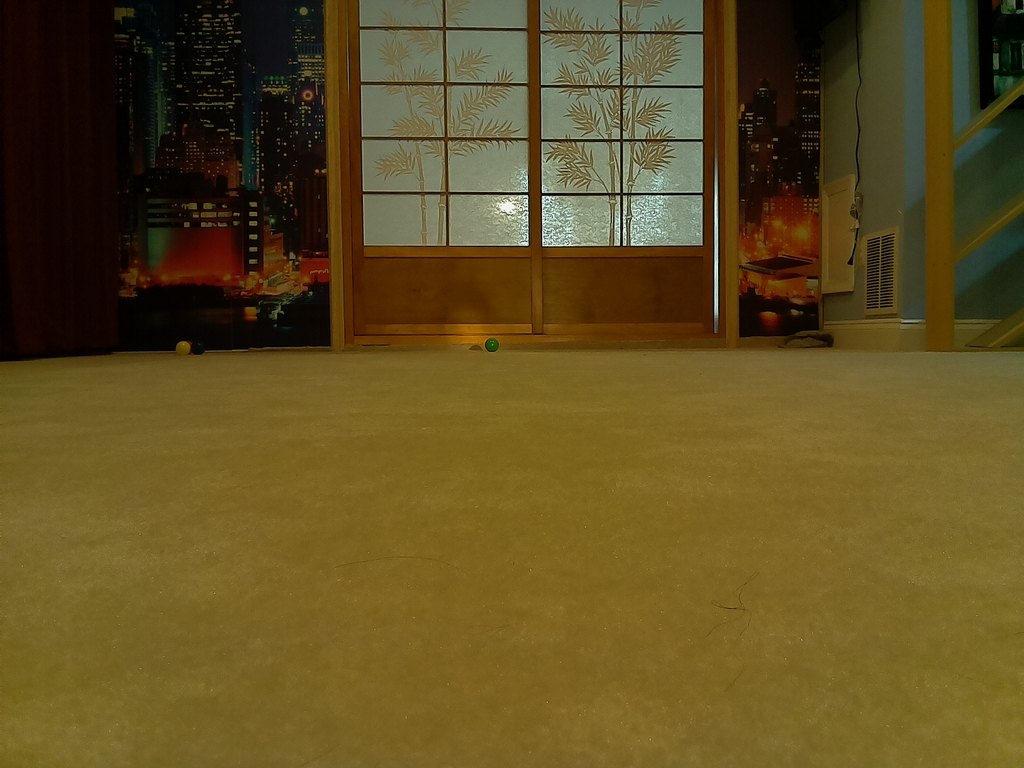ball: (489, 338, 499, 350)
